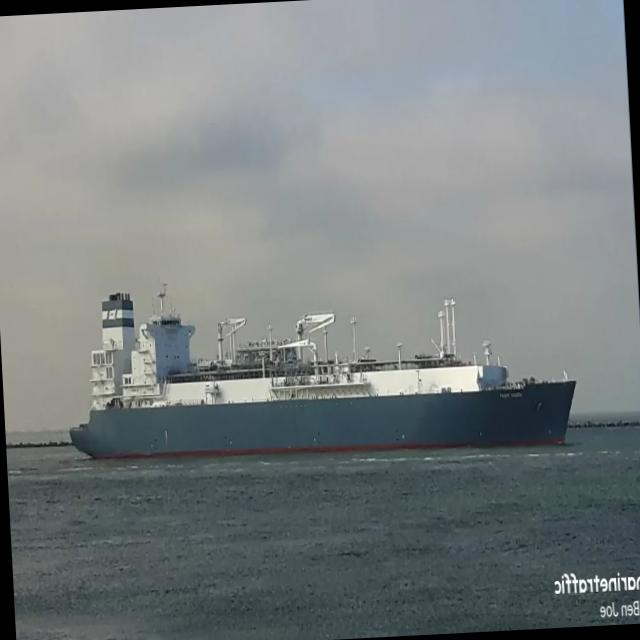Tanker: (71, 291, 575, 458)
